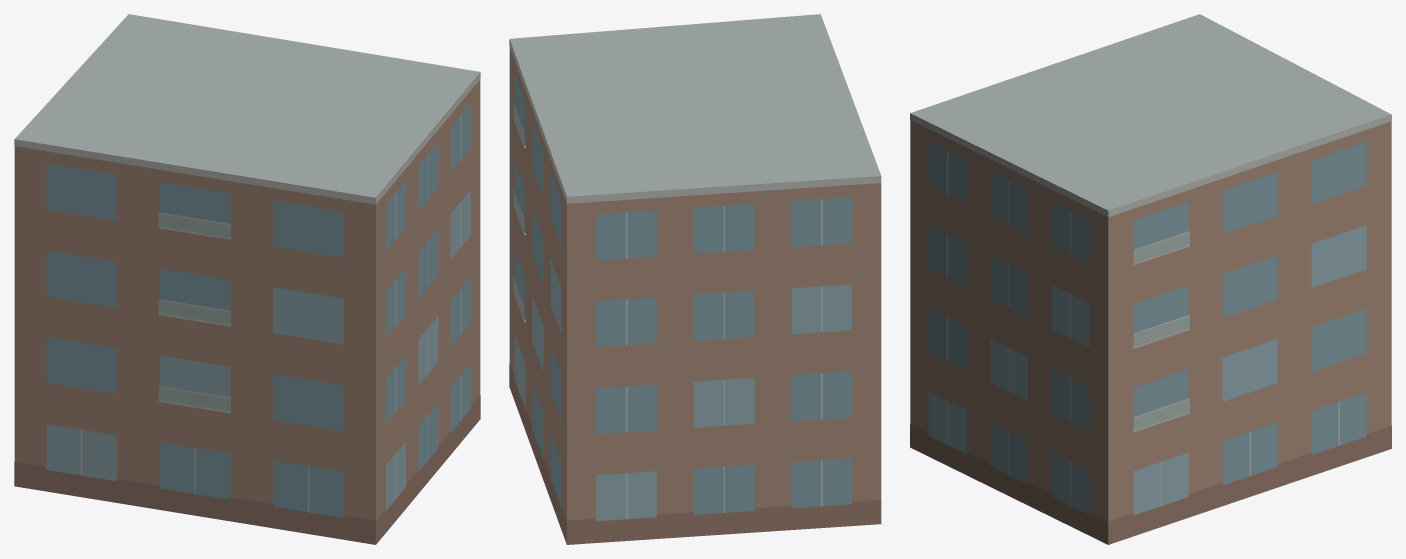
The model's file is survey-upis-32774867.glb.
3 views of the same model, side by side, from view 1: azimuth 30°, elevation 25°; view 2: azimuth 150°, elevation 25°; view 3: azimuth 270°, elevation 25° (orthographic). The views are drawn at different scales.
Visible parts, largest first — view 1: survey-upis-32774867.tmp; view 2: survey-upis-32774867.tmp; view 3: survey-upis-32774867.tmp.
Boxes of the visible parts, x1=… form: survey-upis-32774867.tmp: x1=14, y1=14, x2=480, y2=544; survey-upis-32774867.tmp: x1=509, y1=14, x2=881, y2=544; survey-upis-32774867.tmp: x1=910, y1=14, x2=1391, y2=544.
Size of the model in its own units: 15.4 by 12.2 by 15.94.
